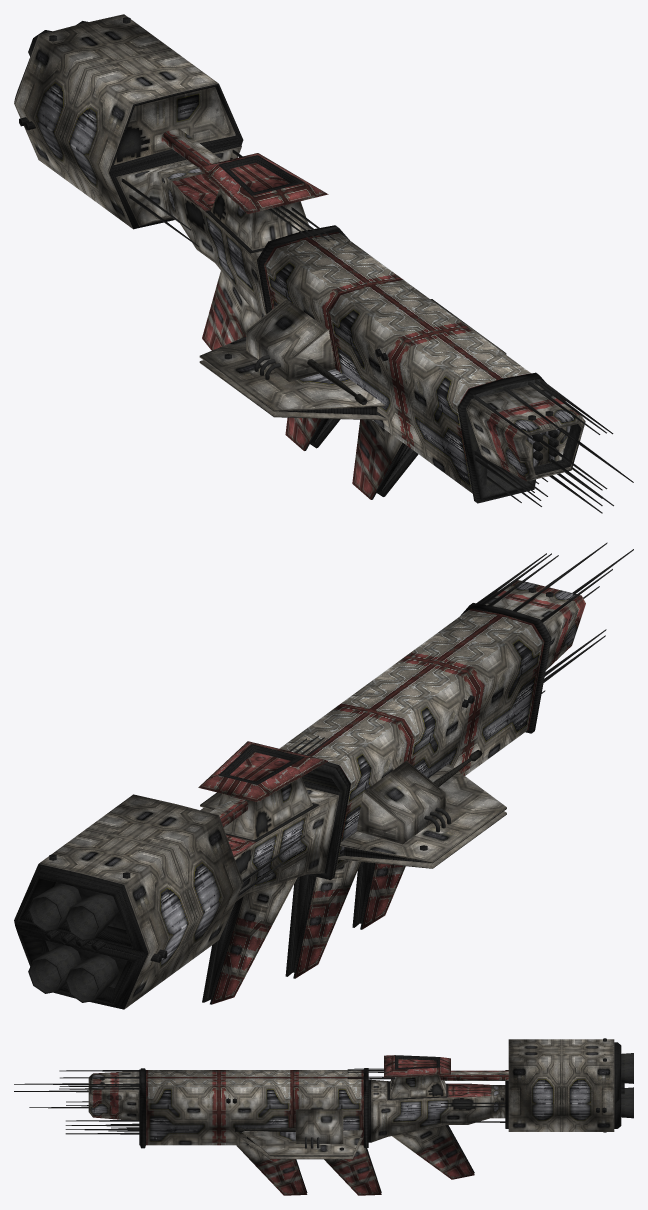
The model's file is Frigate.fbx.
The picture shows the model from 3 angles, top to bottom: view 1: azimuth 30°, elevation 25°; view 2: azimuth 150°, elevation 25°; view 3: azimuth 270°, elevation 25°; orthographic projection. The views are drawn at different scales.
Parts seen in each view (by area): view 1: Frigate; view 2: Frigate; view 3: Frigate.
Part boxes in pixels (box(x1,y1,x2,y2)): Frigate: box(14, 14, 633, 513); Frigate: box(14, 542, 633, 1009); Frigate: box(14, 1038, 633, 1195).
Size of the model in its own units: 306 by 326 by 1268.
